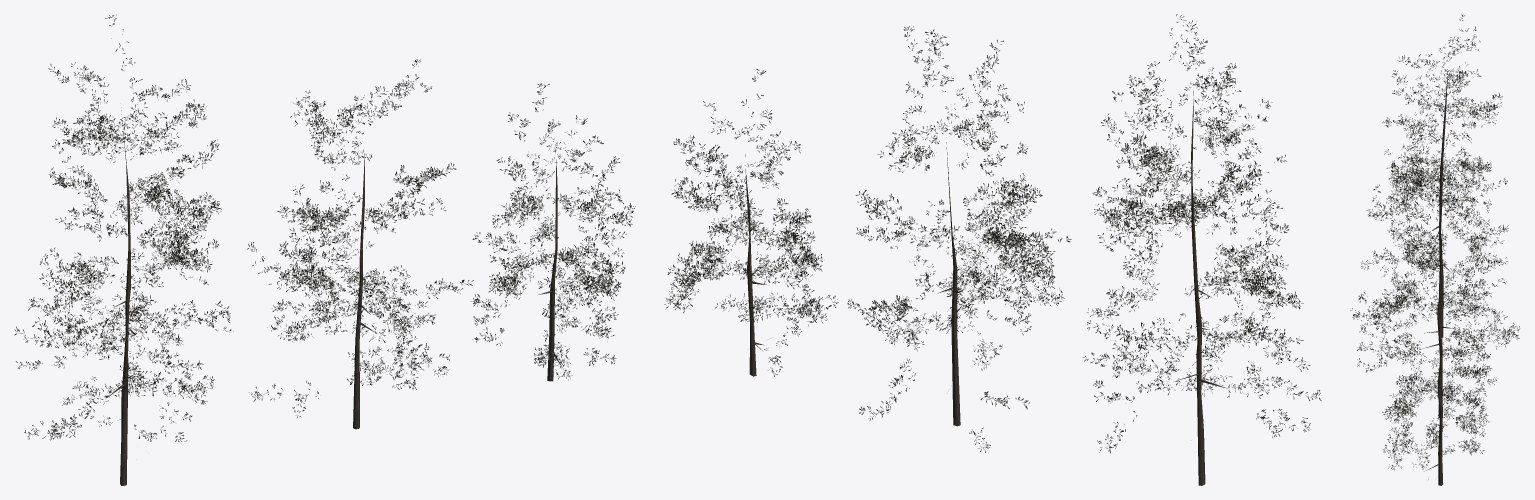
The model's file is pine_sapling_medium.glb.
3 renders of one model, left to right at view 1: azimuth 30°, elevation 25°; view 2: azimuth 150°, elevation 25°; view 3: azimuth 270°, elevation 25°, orthographic. The views are drawn at different scales.
Parts seen in each view (by area): view 1: pine_sapling_medium_a_LOD0; view 2: pine_sapling_medium_a_LOD0; view 3: pine_sapling_medium_a_LOD0.
Part boxes in pixels (bbox=[...]): pine_sapling_medium_a_LOD0: bbox=[14, 14, 635, 485]; pine_sapling_medium_a_LOD0: bbox=[664, 14, 1321, 485]; pine_sapling_medium_a_LOD0: bbox=[1350, 14, 1519, 485].
Size of the model in its own units: 15.45 by 11.26 by 5.36.
3 materials, 3 textured.
